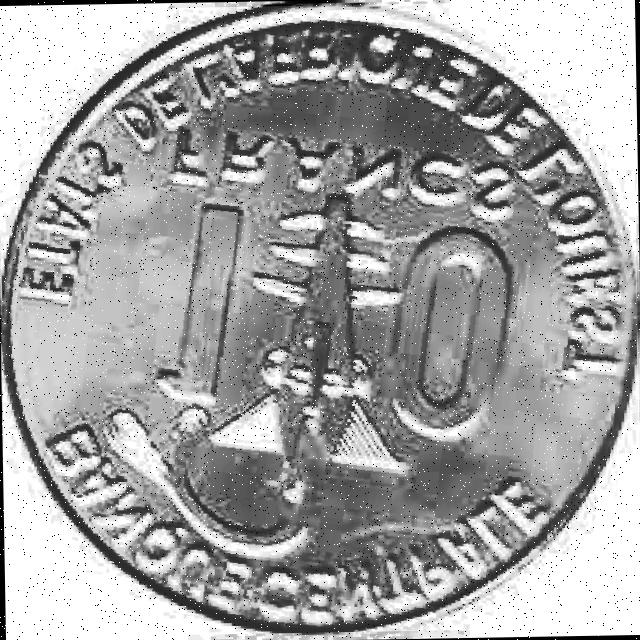niaari derem: (2, 5, 637, 631)
